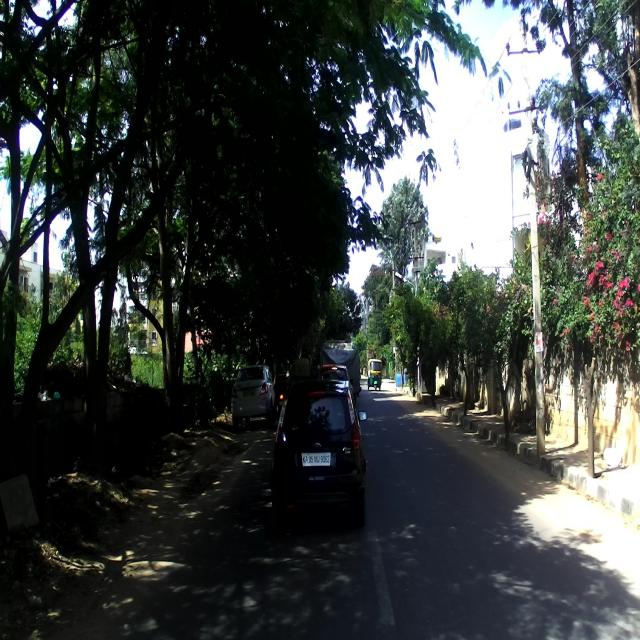car: (267, 386, 367, 528), (222, 362, 274, 429)
